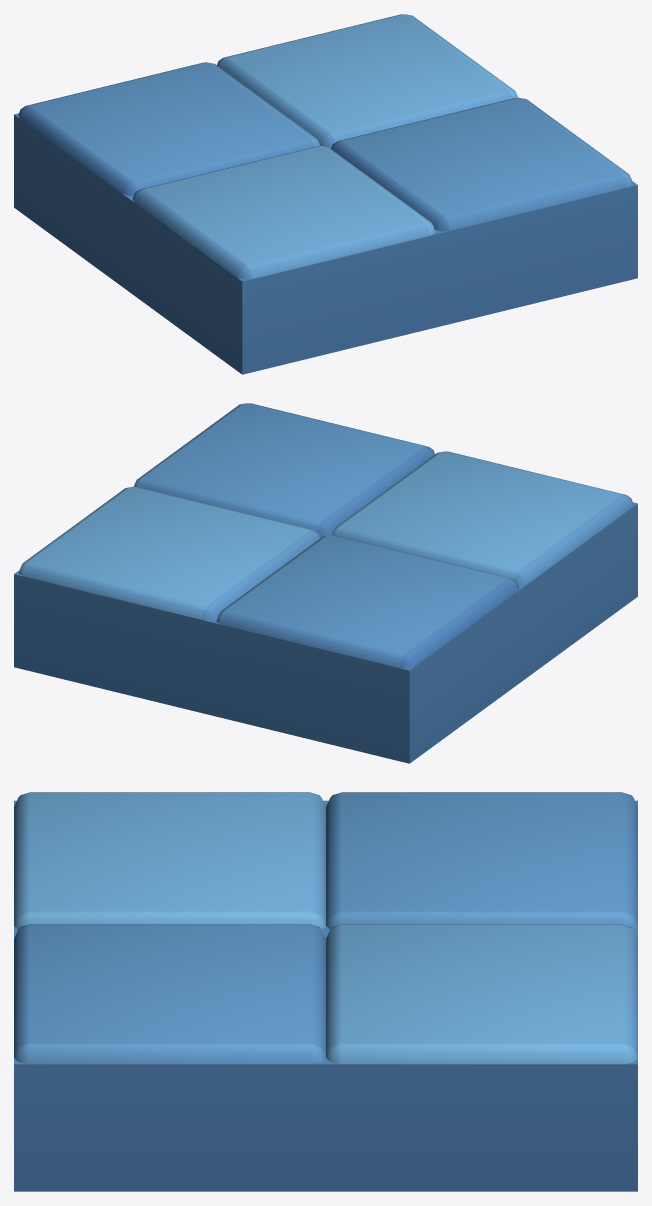
Rendered from Floor Tiles Kitchen.glb.
The picture shows the model from 3 angles, top to bottom: view 1: azimuth 30°, elevation 25°; view 2: azimuth 150°, elevation 25°; view 3: azimuth 270°, elevation 25°; orthographic projection. The views are drawn at different scales.
Visible parts, largest first — view 1: floor_tiles_kitchen; view 2: floor_tiles_kitchen; view 3: floor_tiles_kitchen.
Part boxes in pixels (x1,y1,x2,y2): floor_tiles_kitchen: [14, 14, 637, 374]; floor_tiles_kitchen: [14, 403, 637, 763]; floor_tiles_kitchen: [14, 792, 637, 1191].
Size of the model in its own units: 2 by 0.5 by 2.
1 material, 1 textured.
